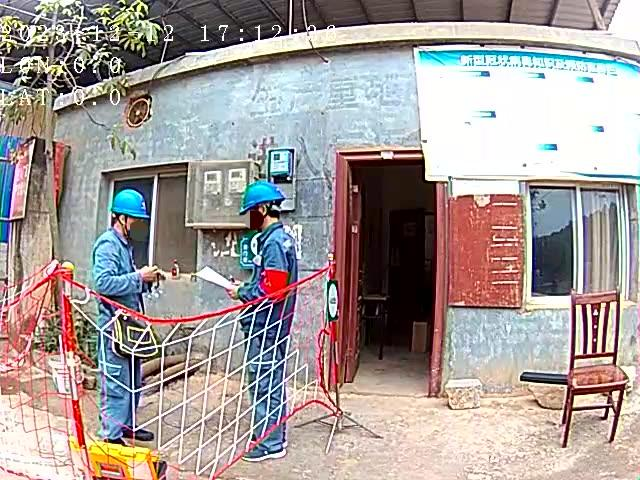halt: (243, 183, 290, 228), (112, 191, 153, 240)
inear: (254, 205, 272, 228), (116, 215, 133, 235)
